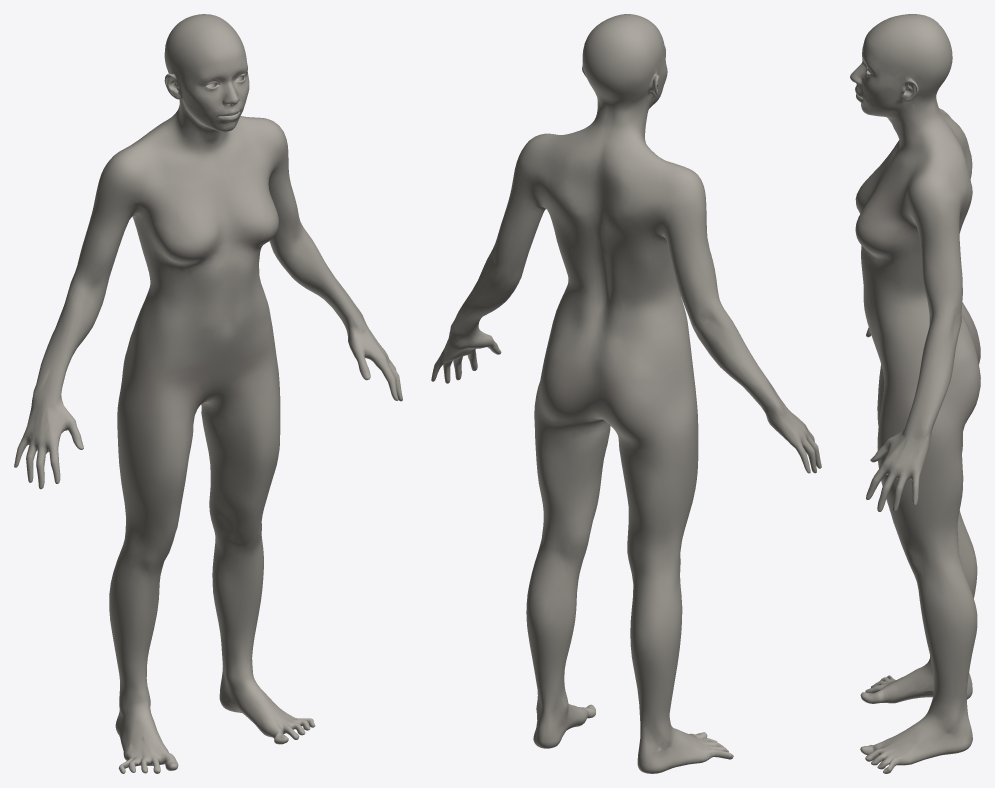
The model's file is female.glb.
The picture shows the model from 3 angles, left to right: view 1: azimuth 30°, elevation 25°; view 2: azimuth 150°, elevation 25°; view 3: azimuth 270°, elevation 25°; orthographic projection. The views are drawn at different scales.
Visible parts, largest first — view 1: body; view 2: body; view 3: body.
Boxes of the visible parts, x1,y1,x2,y2 form: body: (14,14,402,773); body: (431,14,821,773); body: (850,14,980,773).
Size of what is drawn, in the model's own units: 0.9391 by 1.72 by 0.2863.
1 material, 1 textured.
